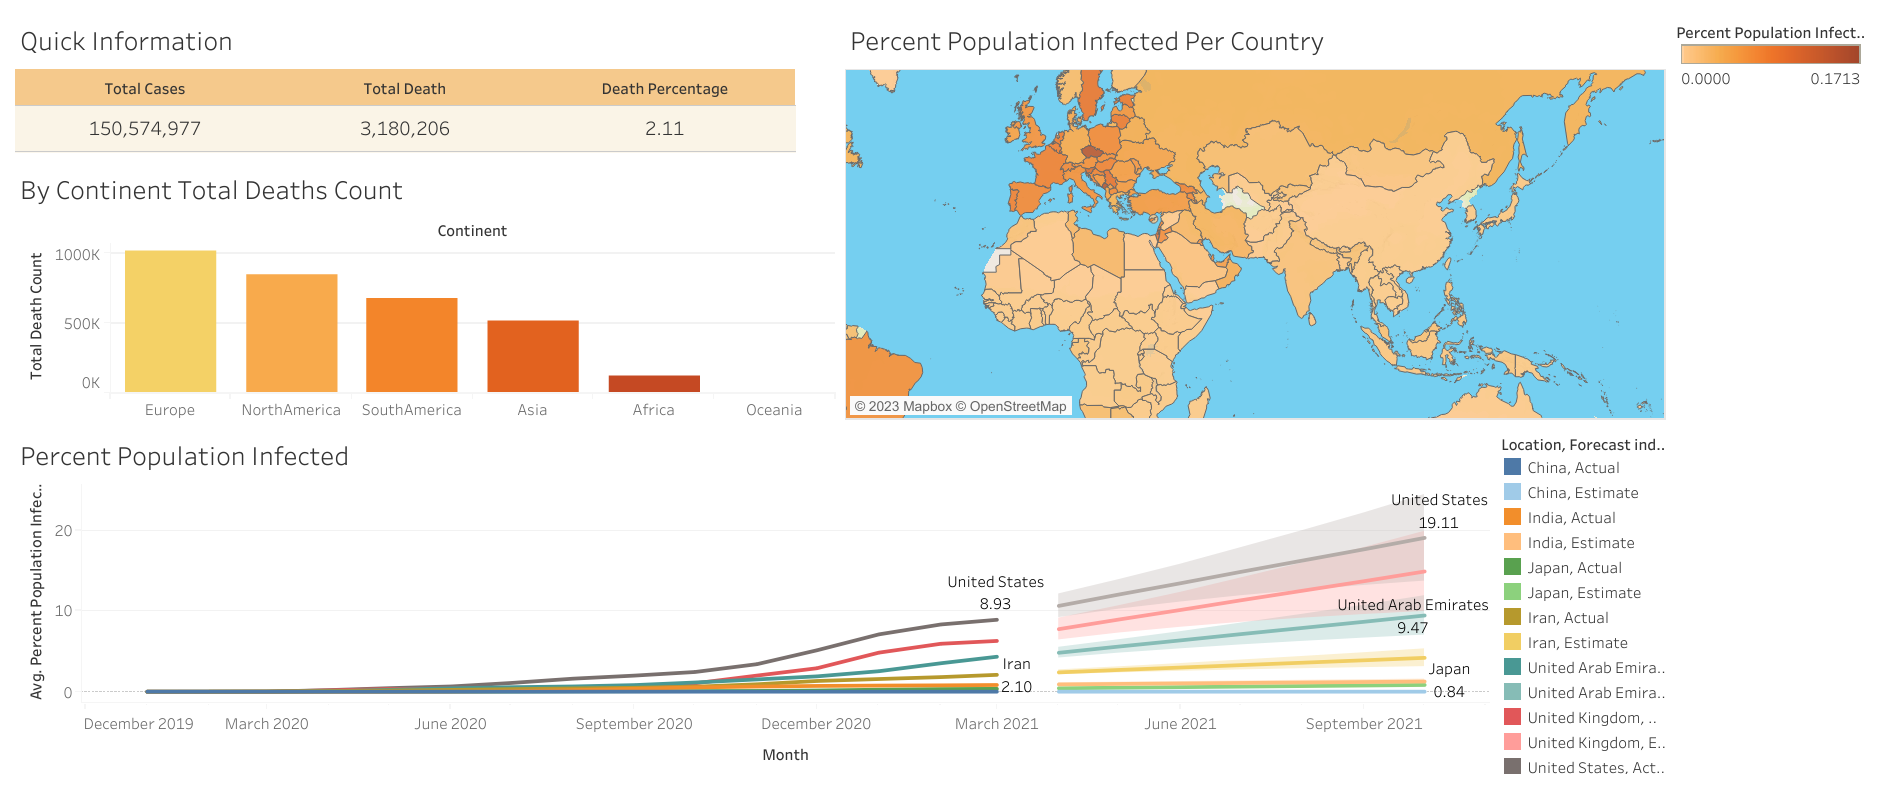

This screenshot's page, from the dashboard's own definition file:
{"tool":"tableau","page":{"name":"Covid Visualization","canvas":[1000,1000],"units":"permille","ordinal":0},"visuals":[{"type":"worksheet","title":"Sheet 1","mark":"Automatic","box":[4.8,9,447.7,190.5]},{"type":"worksheet","title":"Sheet 3","mark":"Automatic","box":[452.5,9,447.7,529.9]},{"type":"legend","title":"Sheet 3","param":"[federated.0msfj5r1djw80q15hjtdj1qzcr0v].[sum:PercentPopulationInfected:qk]","box":[900.2,9,95.1,73.3]},{"type":"worksheet","title":"Sheet 2","mark":"Automatic","rows":["Total_Death_Count"],"cols":["Location"],"box":[4.8,199.6,447.7,339.4]},{"type":"worksheet","title":"Sheet 4","mark":"Automatic","rows":["PercentPopulationInfected"],"cols":["date"],"box":[4.8,538.9,800.4,452.1]},{"type":"legend","title":"Sheet 4","param":"[federated.0a2c8za0r8ntmy16rrstg0q22cm8].[none:location:nk]\n[federated.0a2c8za0r","box":[805.1,538.9,95.1,452.1]}]}

Visuals, with their boxes on the dashboard's canvas, which has no fixed pixel size, in thousandths of its width and height (x1, y1, x2, y2). These are canvas units, not pixel positions in the 1880x788 screenshot, which may show the page scaled, cropped or inside an application window:
"Sheet 1" worksheet: bbox=(5, 9, 452, 200)
"Sheet 3" worksheet: bbox=(452, 9, 900, 539)
"Sheet 3" legend: bbox=(900, 9, 995, 82)
"Sheet 2" worksheet: bbox=(5, 200, 452, 539)
"Sheet 4" worksheet: bbox=(5, 539, 805, 991)
"Sheet 4" legend: bbox=(805, 539, 900, 991)
